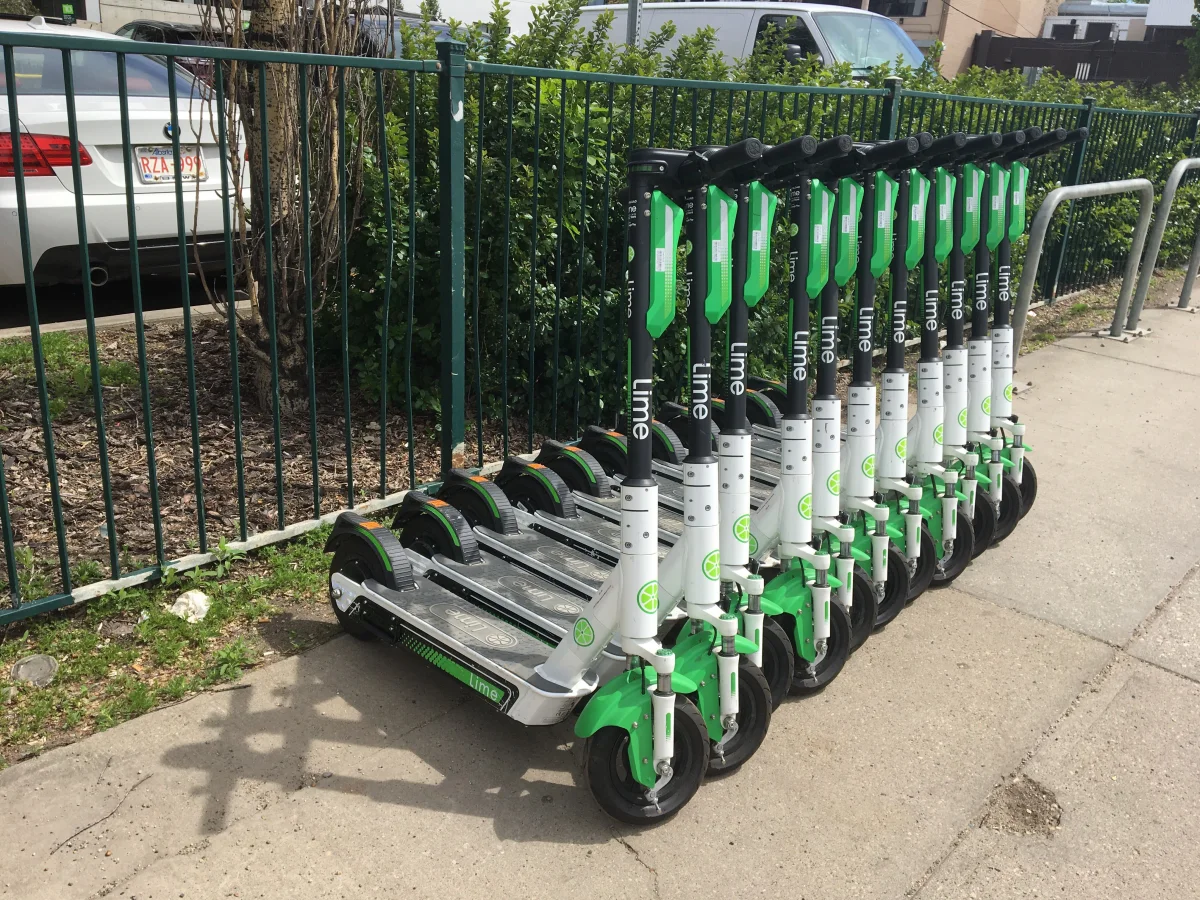scooter: (323, 139, 701, 817)
